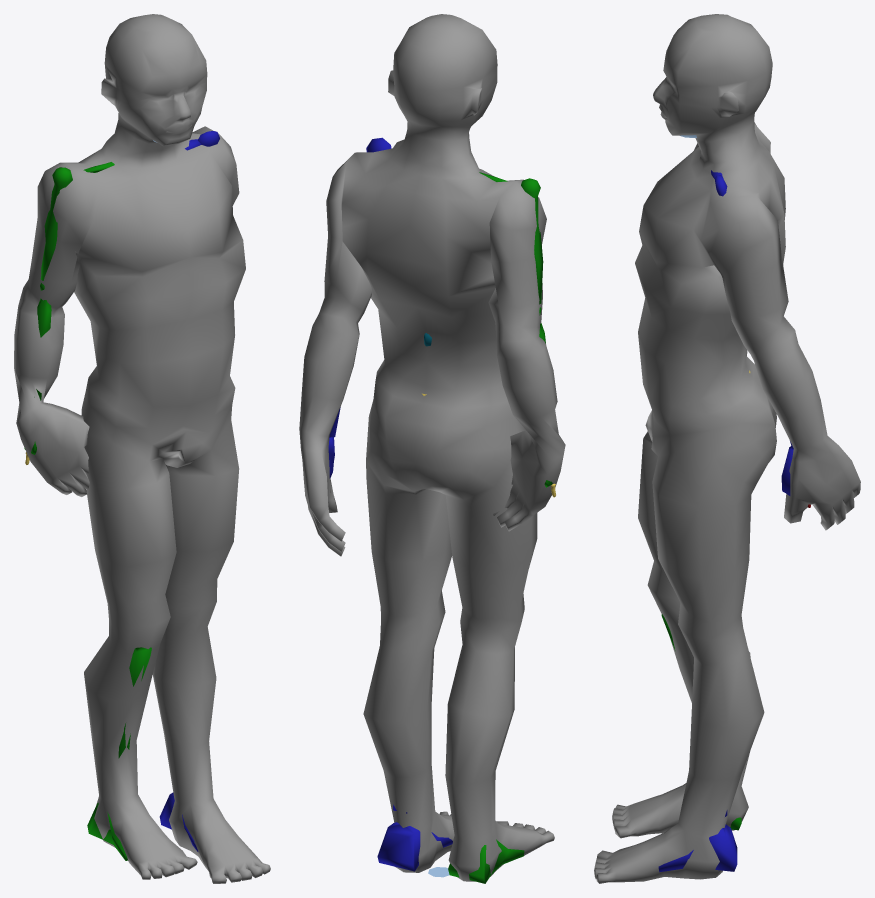
Rendered from man+amimation.obj.
The picture shows the model from 3 angles, left to right: view 1: azimuth 30°, elevation 25°; view 2: azimuth 150°, elevation 25°; view 3: azimuth 270°, elevation 25°; orthographic projection. The views are drawn at different scales.
Parts seen in each view (by area): view 1: Cylinder001, Bip001_R_UpperArm, Bip001_R_Calf, Bip001_R_Foot; view 2: Cylinder001, Bip001_L_Foot, Bip001_R_Foot, Bip001_R_UpperArm; view 3: Cylinder001, Bip001_L_Foot.
Part boxes in pixels (<box>): Cylinder001: <box>14,14,270,883</box>; Bip001_R_UpperArm: <box>40,167,72,280</box>; Bip001_R_Calf: <box>118,647,151,758</box>; Bip001_R_Foot: <box>87,802,128,860</box>; Cylinder001: <box>299,14,565,881</box>; Bip001_L_Foot: <box>377,822,452,871</box>; Bip001_R_Foot: <box>448,839,524,883</box>; Bip001_R_UpperArm: <box>521,178,543,304</box>; Cylinder001: <box>594,14,860,883</box>; Bip001_L_Foot: <box>658,824,737,872</box>.
Bounding box in the file's own units: 80.57 × 287 × 82.91.
